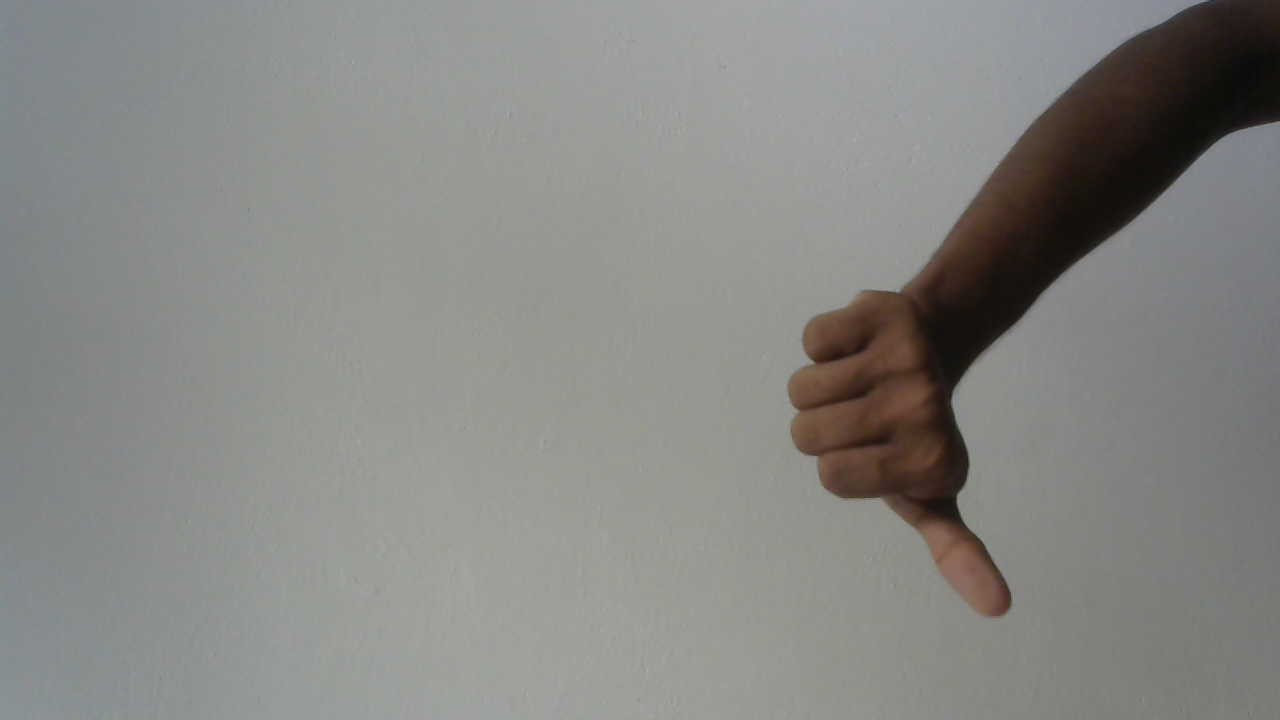thumbsdown: (783, 266, 1042, 642)
